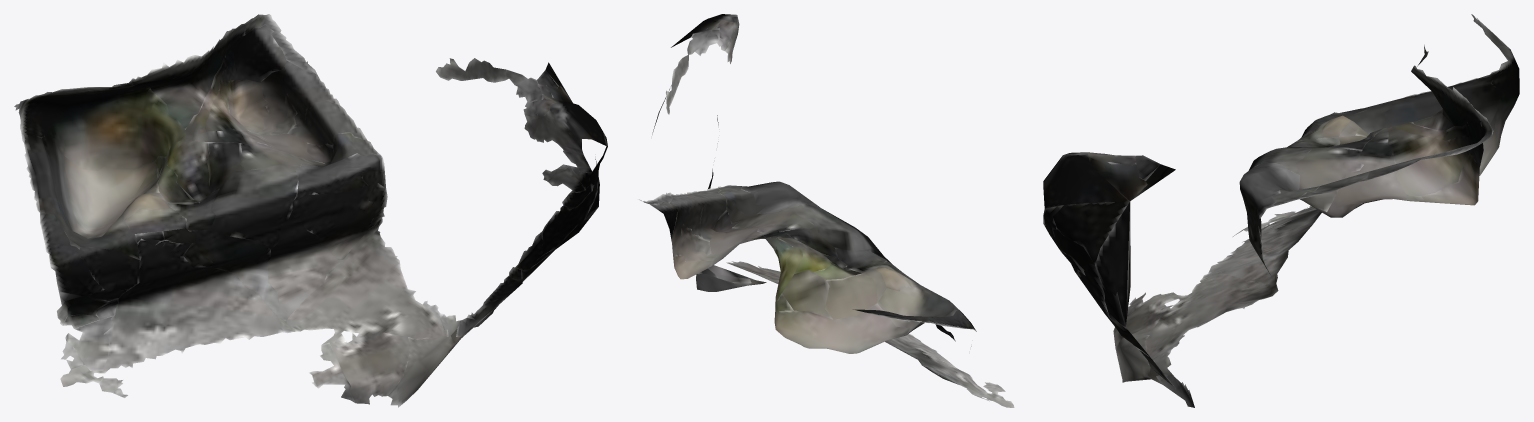
Rendered from hall.glb.
3 views of the same model, side by side, from view 1: azimuth 30°, elevation 25°; view 2: azimuth 150°, elevation 25°; view 3: azimuth 270°, elevation 25° (orthographic). The views are drawn at different scales.
Size of the model in its own units: 0.5124 by 0.3008 by 0.4257.
Materials: 1 (1 with a texture image).
